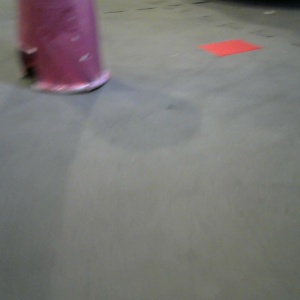right: (10, 1, 115, 100)
